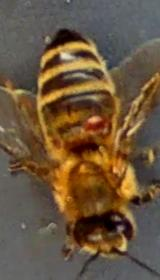varroa_mite: (70, 108, 118, 136)
